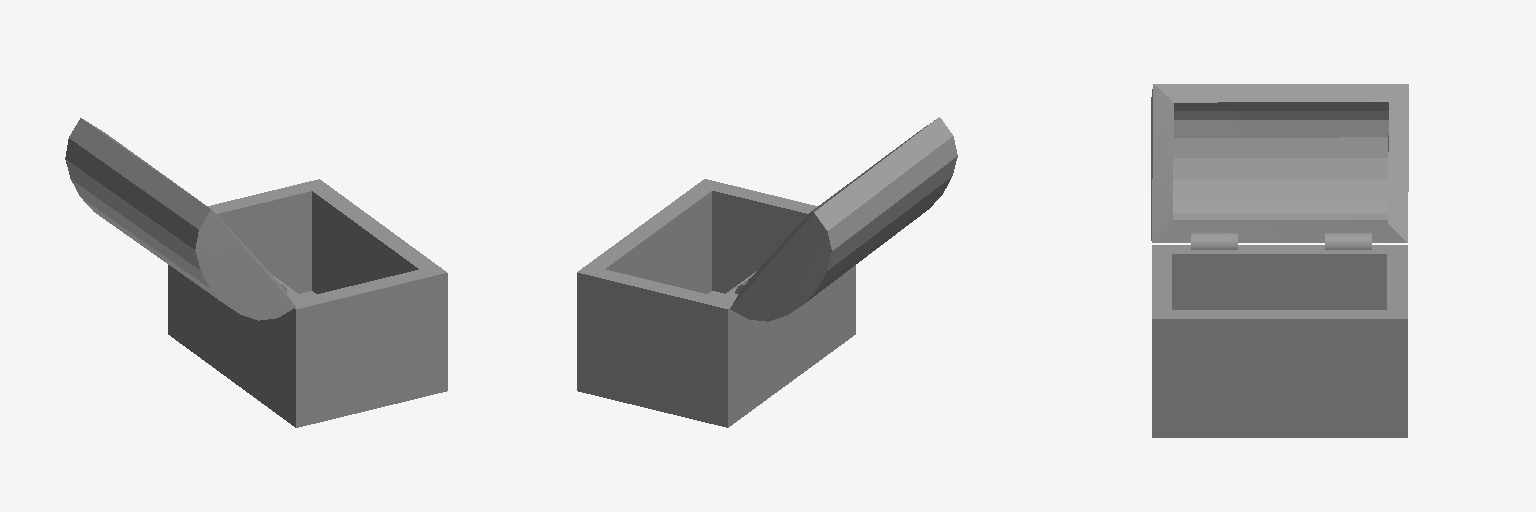
Rendered from Chest_001_high.obj.
3 renders of one model, left to right at view 1: azimuth 30°, elevation 25°; view 2: azimuth 150°, elevation 25°; view 3: azimuth 270°, elevation 25°, orthographic.
Parts seen in each view (by area): view 1: Cube; view 2: Cube; view 3: Cube.
Part boxes in pixels (x1,y1,x2,y2): Cube: (65, 118, 447, 427); Cube: (577, 117, 957, 427); Cube: (1151, 84, 1408, 437).
Bounding box in the file's own units: 1.05 × 0.9432 × 0.9266.